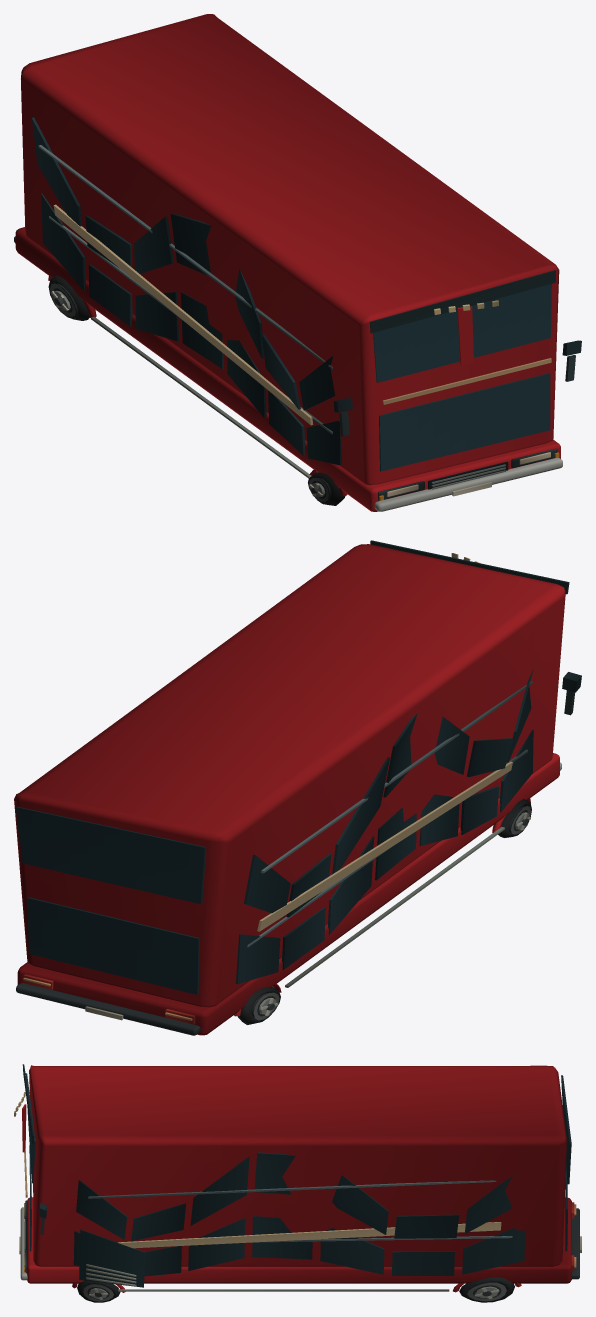
Rendered from doubledecker.glb.
3 renders of one model, top to bottom at view 1: azimuth 30°, elevation 25°; view 2: azimuth 150°, elevation 25°; view 3: azimuth 270°, elevation 25°, orthographic. The views are drawn at different scales.
Parts seen in each view (by area): view 1: doubledecker_body; view 2: doubledecker_body; view 3: doubledecker_body.
Boxes of the visible parts, left/top/right/bottom form: doubledecker_body: left=14, top=14, right=581, bottom=511; doubledecker_body: left=14, top=540, right=581, bottom=1035; doubledecker_body: left=14, top=1064, right=581, bottom=1302.
Bounding box in the file's own units: 3.02 × 2.57 × 7.95.
